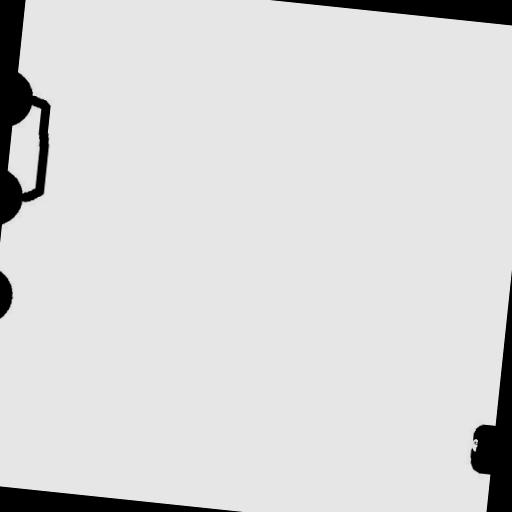mousebite: (461, 430, 486, 460)
short: (8, 87, 62, 212)
